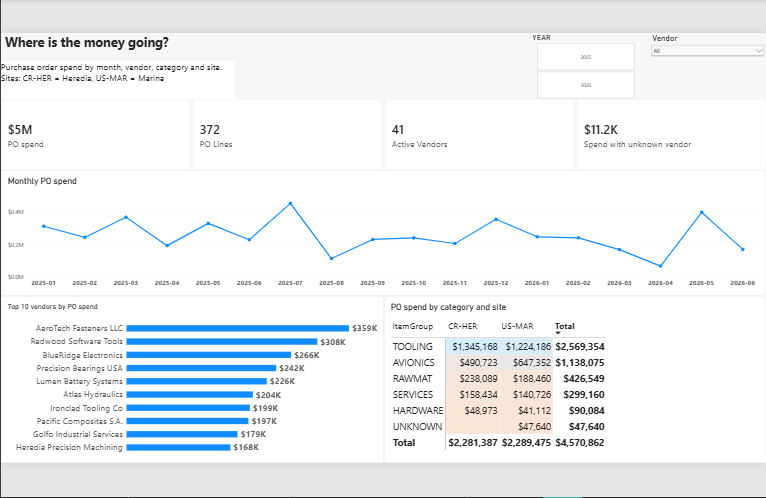

What the dashboard file says about the page in this screenshot:
{"tool":"powerbi","page":{"name":"Page 1","canvas":[1920,1080],"ordinal":2},"visuals":[{"type":"textbox","box":[10,0,557.2,102.9],"z":0},{"type":"textbox","box":[0,70.3,587.3,95.4],"z":1},{"type":"cardVisual","fields":{"Data":["_Measures.Total PO Spend","_Measures.PO Lines","_Measures.Active Vendors","_Measures.Unmapped Spend"]},"box":[0,165.6,1920,178.2],"z":2},{"type":"lineChart","title":"Monthly PO spend","fields":{"Category":["dim_date.YearMonth"],"Y":["_Measures.Total PO Spend"]},"box":[0,343.8,1920,316.2],"z":3},{"type":"clusteredBarChart","title":"Top 10 vendors by PO spend","fields":{"Category":["dim_vendor.VendorName"],"Y":["_Measures.Total PO Spend"]},"box":[0,660.1,961.3,419.1],"z":4},{"type":"pivotTable","title":"PO spend by category and site","fields":{"Rows":["dim_item.ItemGroup"],"Columns":["fact_po_line.Site"],"Values":["_Measures.Total PO Spend"]},"box":[961.3,660.1,958.7,419.1],"z":5},{"type":"slicer","fields":{"Values":["dim_date.YEAR"]},"box":[1325.2,0,283.6,165.6],"z":6},{"type":"slicer","fields":{"Values":["dim_vendor.VendorName"]},"box":[1626.4,0,293.6,165.6],"z":7}]}

Visuals, with their boxes on the page's 1920x1080 design canvas (x1, y1, x2, y2). These are canvas units, not pixel positions in the 766x498 screenshot, which may show the page scaled, cropped or inside an application window:
textbox: x1=10, y1=0, x2=567, y2=103
textbox: x1=0, y1=70, x2=587, y2=166
cardVisual - _Measures.Total PO Spend x _Measures.PO Lines: x1=0, y1=166, x2=1920, y2=344
"Monthly PO spend" lineChart: x1=0, y1=344, x2=1920, y2=660
"Top 10 vendors by PO spend" clusteredBarChart: x1=0, y1=660, x2=961, y2=1079
"PO spend by category and site" pivotTable: x1=961, y1=660, x2=1920, y2=1079
slicer - dim_date.YEAR: x1=1325, y1=0, x2=1609, y2=166
slicer - dim_vendor.VendorName: x1=1626, y1=0, x2=1920, y2=166
